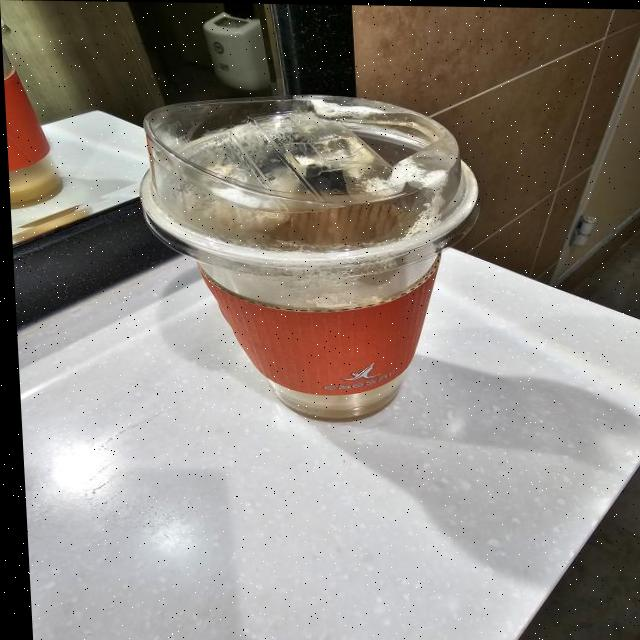cup: (125, 90, 489, 428)
